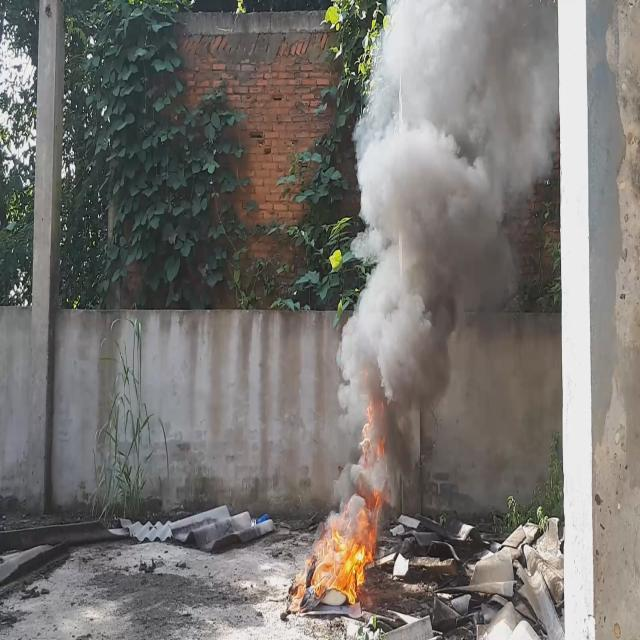Fire: (316, 392, 388, 600)
Smoke: (334, 0, 558, 423)
